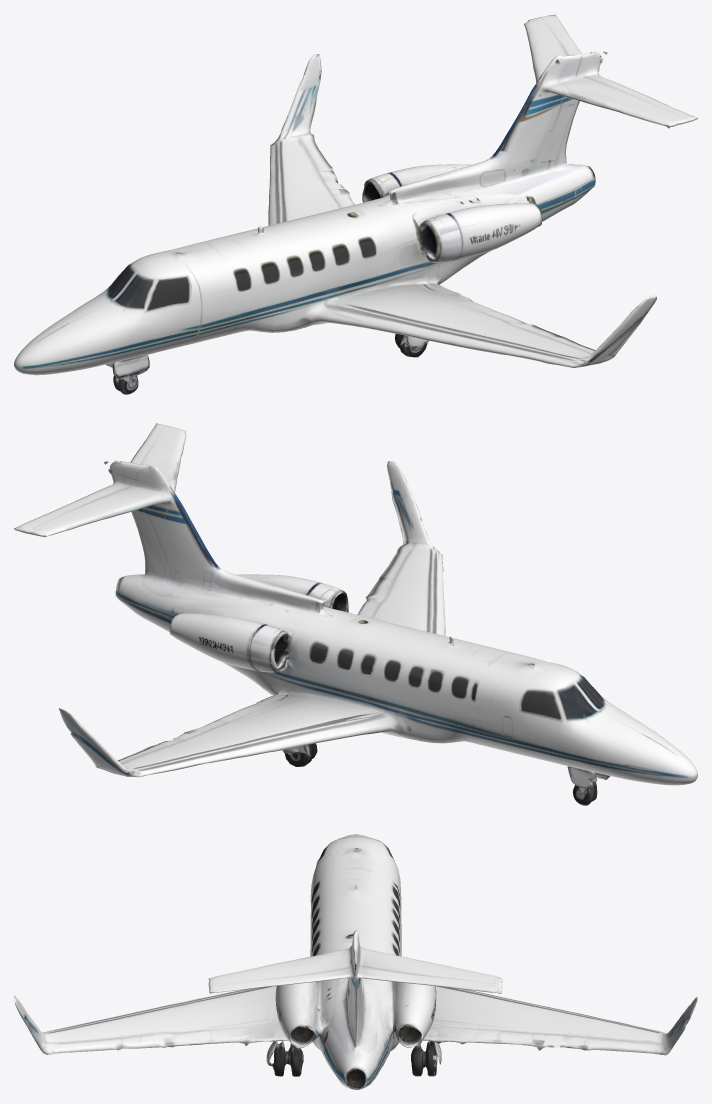
File: cessna_citation.glb
The picture shows the model from 3 angles, top to bottom: view 1: azimuth 30°, elevation 25°; view 2: azimuth 150°, elevation 25°; view 3: azimuth 270°, elevation 25°; orthographic projection. The views are drawn at different scales.
Parts seen in each view (by area): view 1: Object_3; view 2: Object_3; view 3: Object_3.
Part boxes in pixels (x1=…): Object_3: x1=14, y1=14, x2=697, y2=394; Object_3: x1=14, y1=423, x2=697, y2=805; Object_3: x1=14, y1=834, x2=697, y2=1089.
Size of the model in its own units: 1.98 by 0.7162 by 1.87.
1 material, 1 textured.
